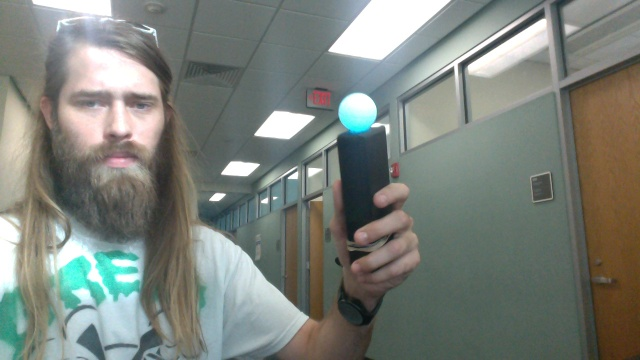wand: (339, 93, 377, 133)
